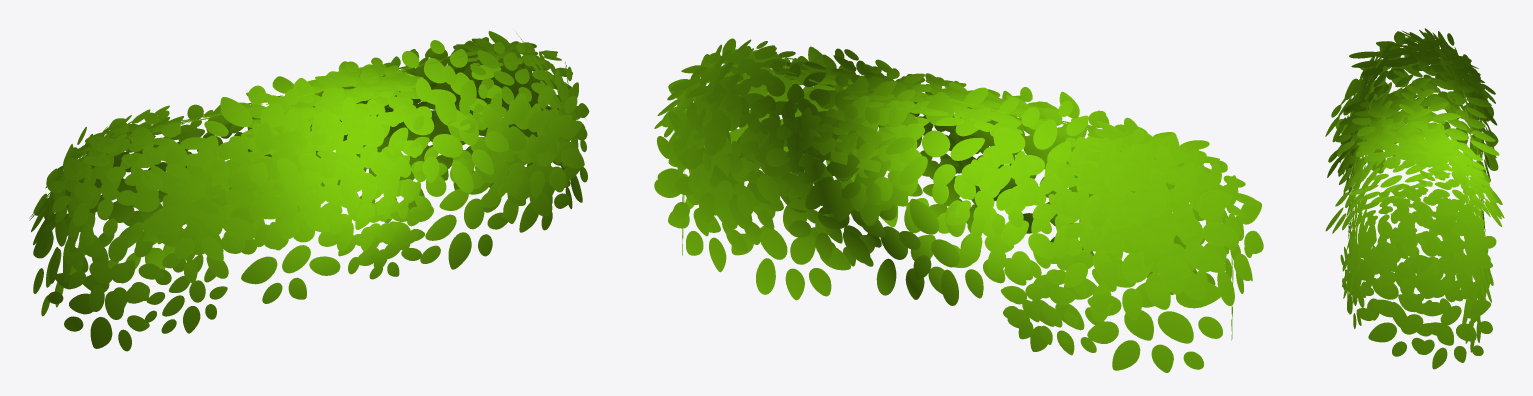
Rendered from bush_small.glb.
The picture shows the model from 3 angles, left to right: view 1: azimuth 30°, elevation 25°; view 2: azimuth 150°, elevation 25°; view 3: azimuth 270°, elevation 25°; orthographic projection. The views are drawn at different scales.
Parts seen in each view (by area): view 1: Bush_Small; view 2: Bush_Small; view 3: Bush_Small.
Boxes of the visible parts, x1,y1,x2,y2 form: Bush_Small: [29, 31, 589, 351]; Bush_Small: [654, 38, 1263, 372]; Bush_Small: [1325, 28, 1504, 369].
Bounding box in the file's own units: 1.9 × 0.7784 × 0.7238.
Materials: 1 (1 with a texture image).
